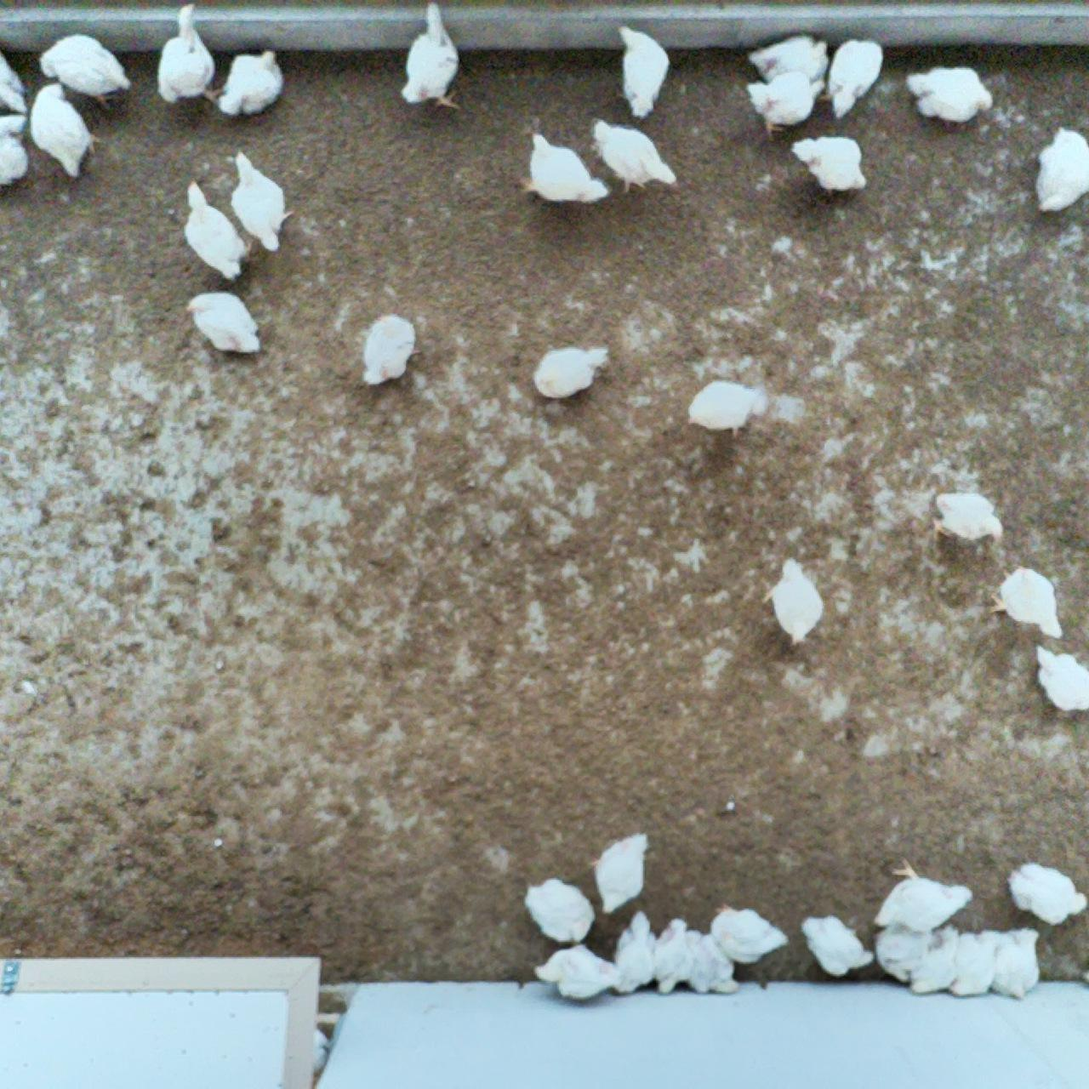chicken: (391, 0, 470, 113), (227, 147, 304, 254), (34, 33, 133, 113), (873, 860, 977, 936), (155, 0, 225, 104), (29, 82, 100, 183), (518, 132, 614, 206), (180, 183, 253, 279), (761, 554, 828, 651), (588, 120, 678, 192), (983, 560, 1065, 638), (531, 941, 626, 1004), (1029, 119, 1089, 217), (180, 287, 262, 358), (1005, 858, 1089, 927), (215, 41, 287, 117), (614, 23, 673, 115), (819, 35, 886, 116), (791, 129, 868, 199), (748, 67, 824, 137), (708, 901, 791, 965), (904, 62, 993, 121), (593, 830, 650, 921), (359, 308, 420, 393), (523, 874, 594, 947), (746, 32, 832, 92), (798, 915, 877, 980), (1024, 640, 1089, 715), (930, 483, 1008, 545), (530, 342, 611, 401), (611, 911, 666, 993), (876, 918, 944, 984), (689, 378, 766, 435), (985, 926, 1047, 996), (911, 922, 967, 995), (947, 928, 1003, 1000), (647, 914, 693, 999), (684, 931, 739, 995), (0, 111, 33, 188), (0, 48, 31, 115)
